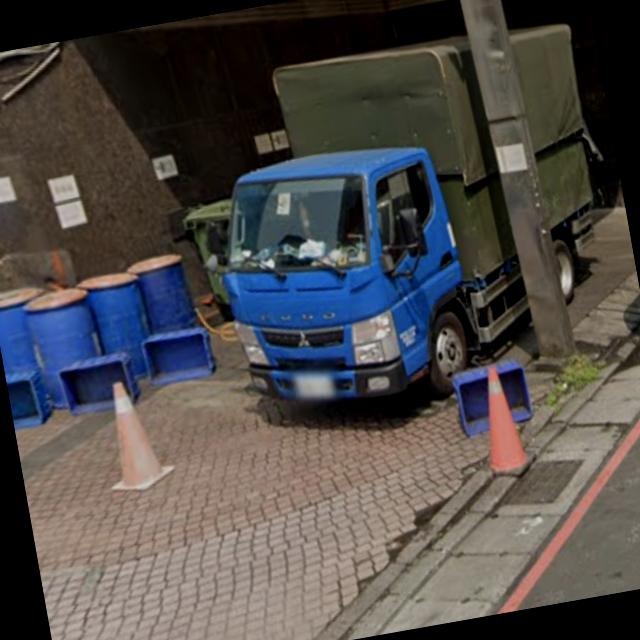car: (204, 22, 628, 421)
cone: (93, 364, 182, 520), (467, 346, 548, 506)
